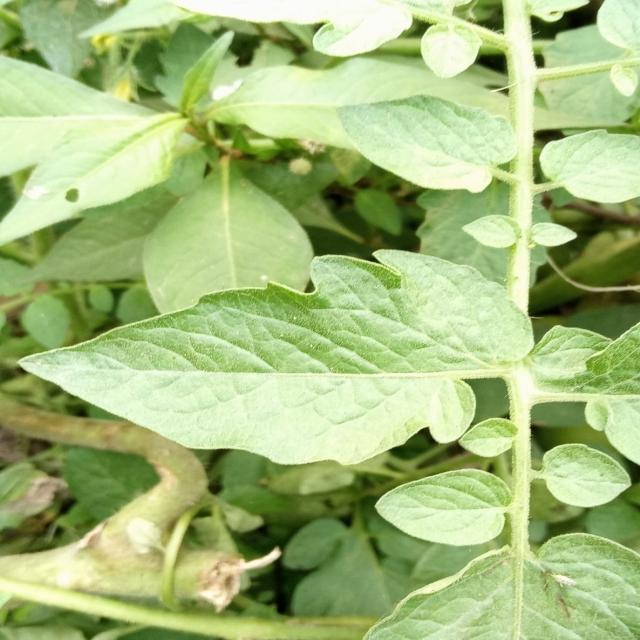Healthy: (11, 221, 550, 519), (332, 88, 519, 196), (372, 458, 514, 550)
